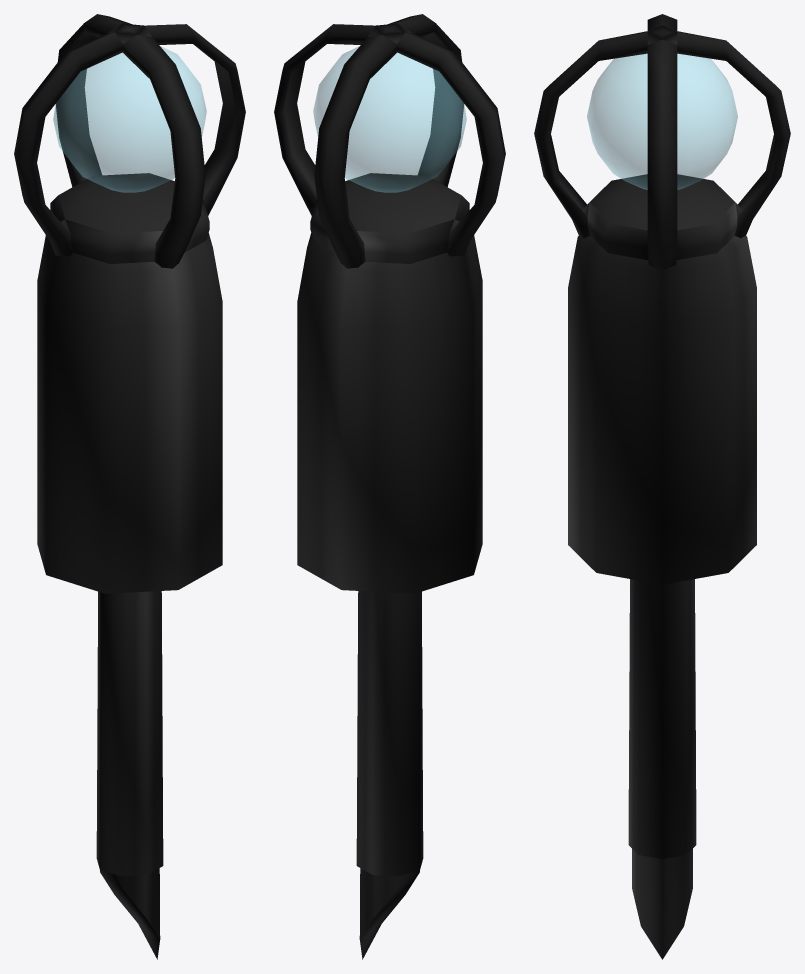
The model's file is lamp_post_broken.glb.
The picture shows the model from 3 angles, left to right: view 1: azimuth 30°, elevation 25°; view 2: azimuth 150°, elevation 25°; view 3: azimuth 270°, elevation 25°; orthographic projection. The views are drawn at different scales.
Parts seen in each view (by area): view 1: LampPost.002, LampPost, LampPost.001; view 2: LampPost.002, LampPost, LampPost.001; view 3: LampPost.002, LampPost, LampPost.001.
Part boxes in pixels (left/top/right/bottom): LampPost.002: left=37, top=233, right=222, bottom=593; LampPost: left=14, top=14, right=245, bottom=959; LampPost.001: left=96, top=591, right=163, bottom=876; LampPost.002: left=297, top=233, right=482, bottom=593; LampPost: left=274, top=14, right=505, bottom=959; LampPost.001: left=356, top=591, right=423, bottom=876; LampPost.002: left=568, top=236, right=756, bottom=584; LampPost: left=534, top=14, right=790, bottom=959; LampPost.001: left=628, top=579, right=696, bottom=859.
Size of the model in its own units: 2.72 by 10.67 by 2.72.
2 materials, 1 textured.
